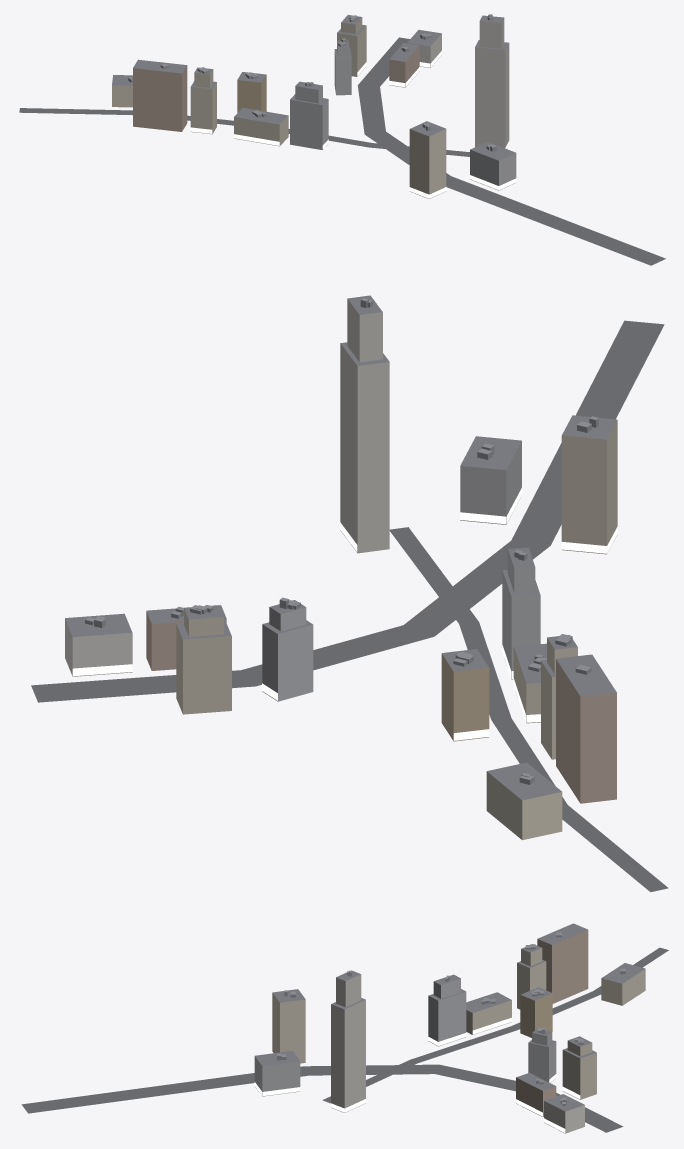
The picture shows the model from 3 angles, top to bottom: view 1: azimuth 30°, elevation 25°; view 2: azimuth 150°, elevation 25°; view 3: azimuth 270°, elevation 25°; orthographic projection. The views are drawn at different scales.
Size of the model in its own units: 311 by 103 by 459.
